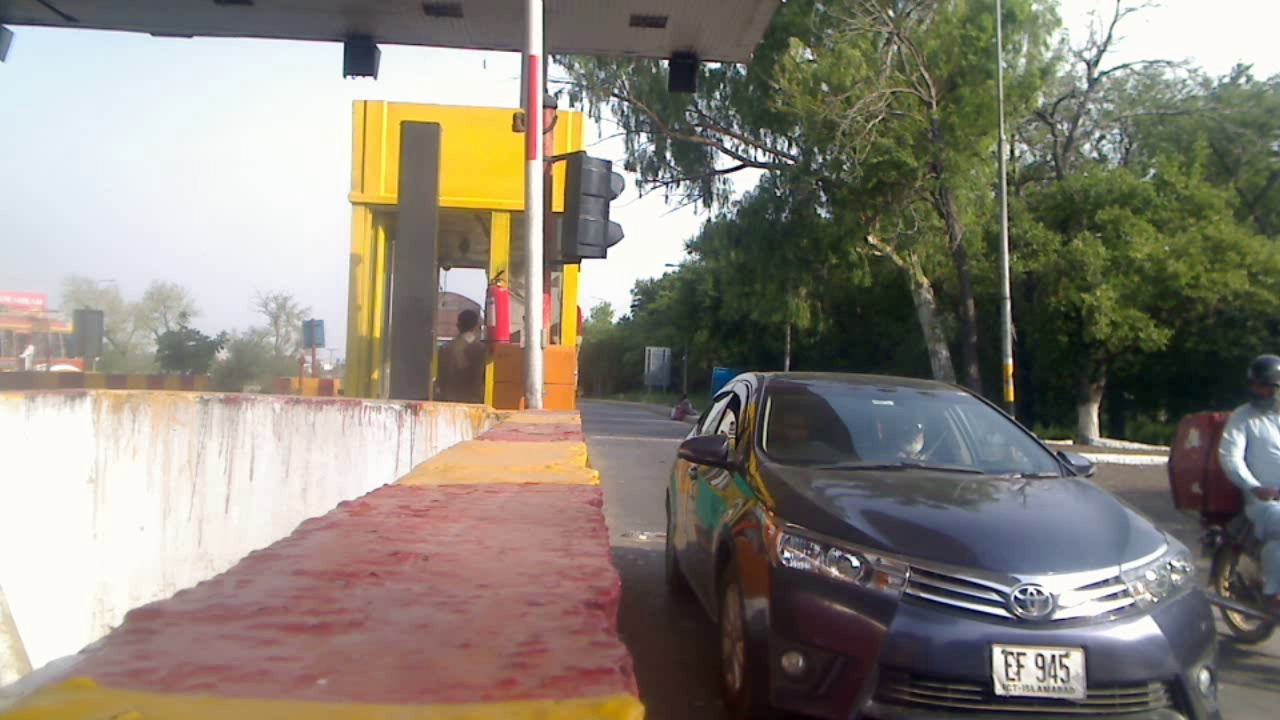Number Plate (Car): (993, 645, 1085, 697)
